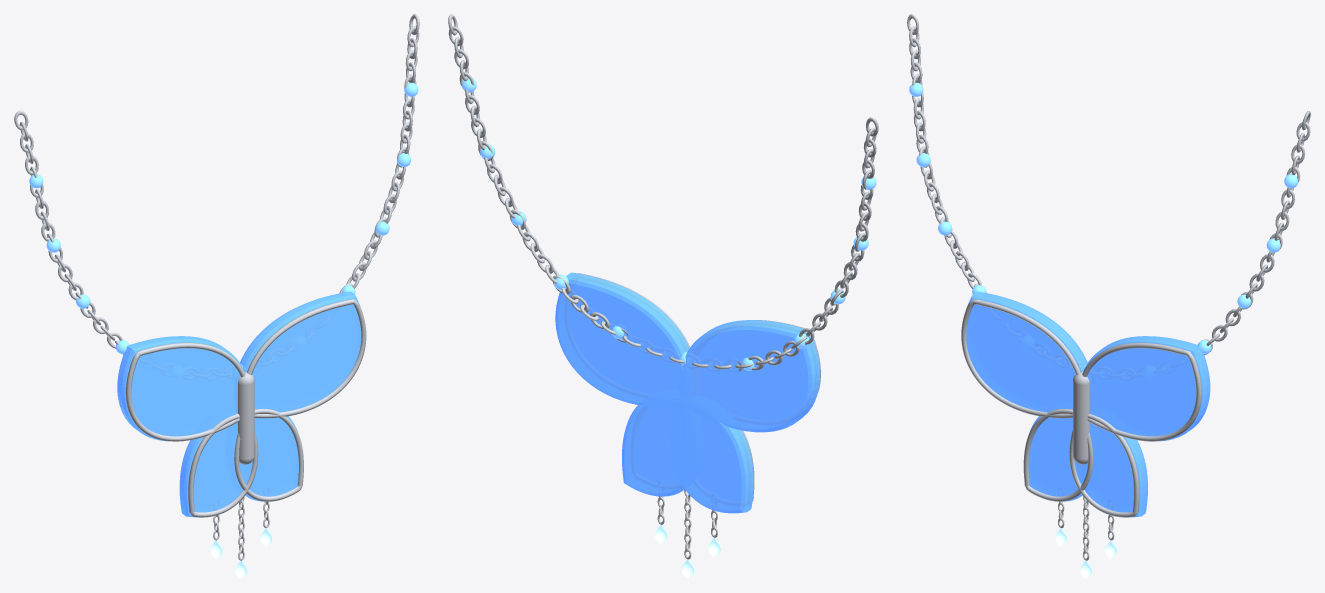
The model's file is necklace.glb.
3 views of the same model, side by side, from view 1: azimuth 30°, elevation 25°; view 2: azimuth 150°, elevation 25°; view 3: azimuth 330°, elevation 25° (orthographic). The views are drawn at different scales.
Parts seen in each view (by area): view 1: butterflyWings, butterflyRims, chain, butterflyBody, beads, dropChains; view 2: butterflyWings, chain, beads, dropChains; view 3: butterflyWings, butterflyRims, chain, butterflyBody, beads, dropChains.
Part boxes in pixels (<box>): butterflyWings: <box>117,291,361,517</box>; butterflyRims: <box>125,299,366,517</box>; chain: <box>14,14,419,354</box>; butterflyBody: <box>238,372,254,464</box>; beads: <box>29,82,418,367</box>; dropChains: <box>213,496,269,560</box>; butterflyWings: <box>555,272,820,513</box>; chain: <box>448,14,878,371</box>; beads: <box>461,78,876,370</box>; dropChains: <box>657,489,717,559</box>; butterflyWings: <box>966,291,1210,517</box>; butterflyRims: <box>961,299,1201,517</box>; chain: <box>907,14,1310,354</box>; butterflyBody: <box>1073,372,1089,464</box>; beads: <box>909,82,1298,367</box>; dropChains: <box>1058,496,1114,560</box>.
Size of the model in its own units: 1.94 by 2.29 by 0.2971.
